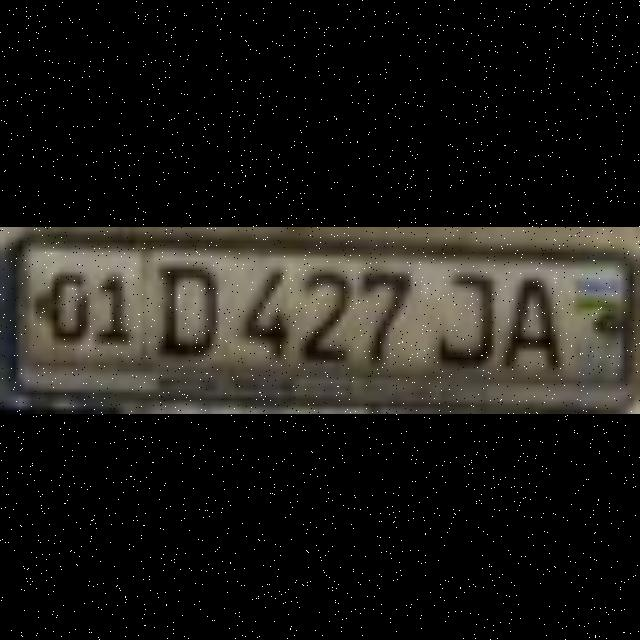0: (42, 266, 82, 332)
1: (95, 267, 124, 337)
2: (300, 267, 340, 355)
4: (234, 267, 282, 349)
7: (358, 267, 406, 355)
A: (500, 273, 552, 361)
D: (152, 261, 212, 349)
J: (434, 267, 488, 355)
